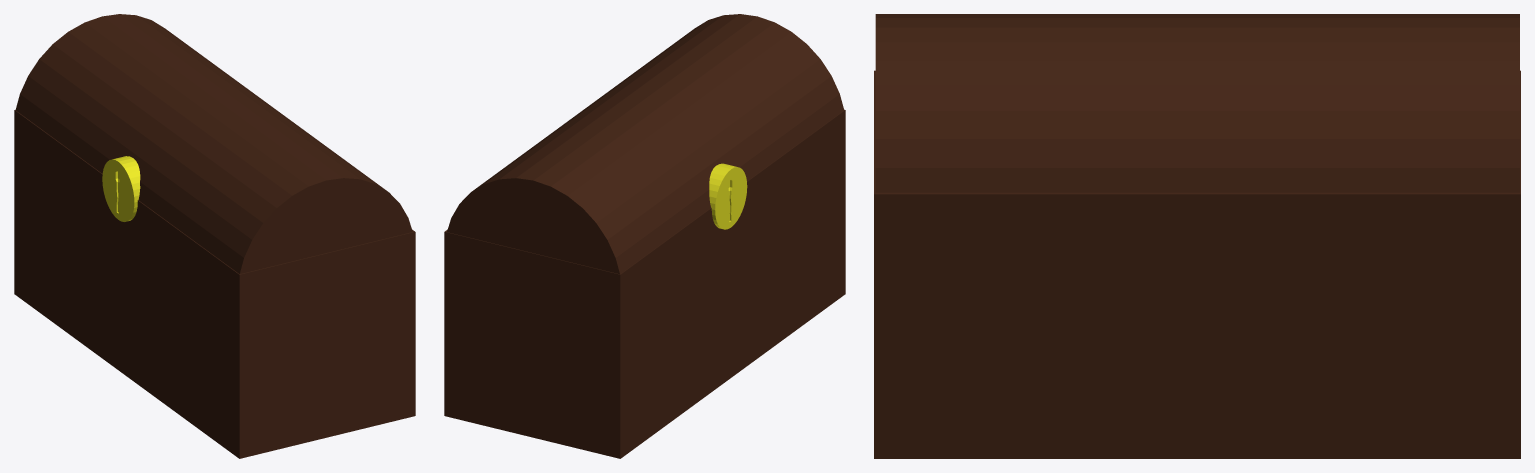
File: misty_box_004.fbx
3 renders of one model, left to right at view 1: azimuth 30°, elevation 25°; view 2: azimuth 150°, elevation 25°; view 3: azimuth 270°, elevation 25°, orthographic. The views are drawn at different scales.
Visible parts, largest first — view 1: JewelCase, Circle; view 2: JewelCase, Circle; view 3: JewelCase.
Part boxes in pixels (x1,y1,x2,y2): JewelCase: (14,14,415,458); Circle: (102,156,140,221); JewelCase: (444,14,845,458); Circle: (709,163,747,229); JewelCase: (874,14,1520,458).
Bounding box in the file's own units: 204 × 279 × 443.
